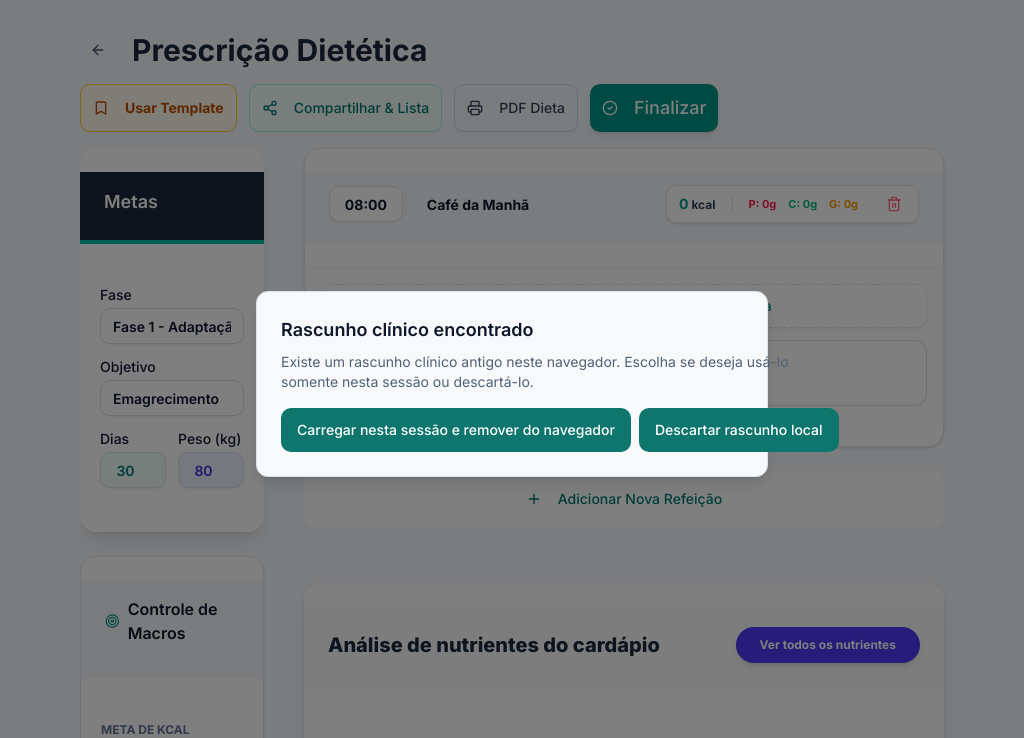
Test: diet page legacy draft recovery › waits for an explicit load choice, applies only in memory and removes the old key
The image size is (1024, 738).
Expected: the dialog "Rascunho clínico encontrado" is shown, [256,291,768,477]
Expected: the field showing "Plano legado desta sessão" is not shown
Step 1. Click the button "Carregar nesta sessão e remover do navegador" → point(456, 430), box [281,408,631,452]
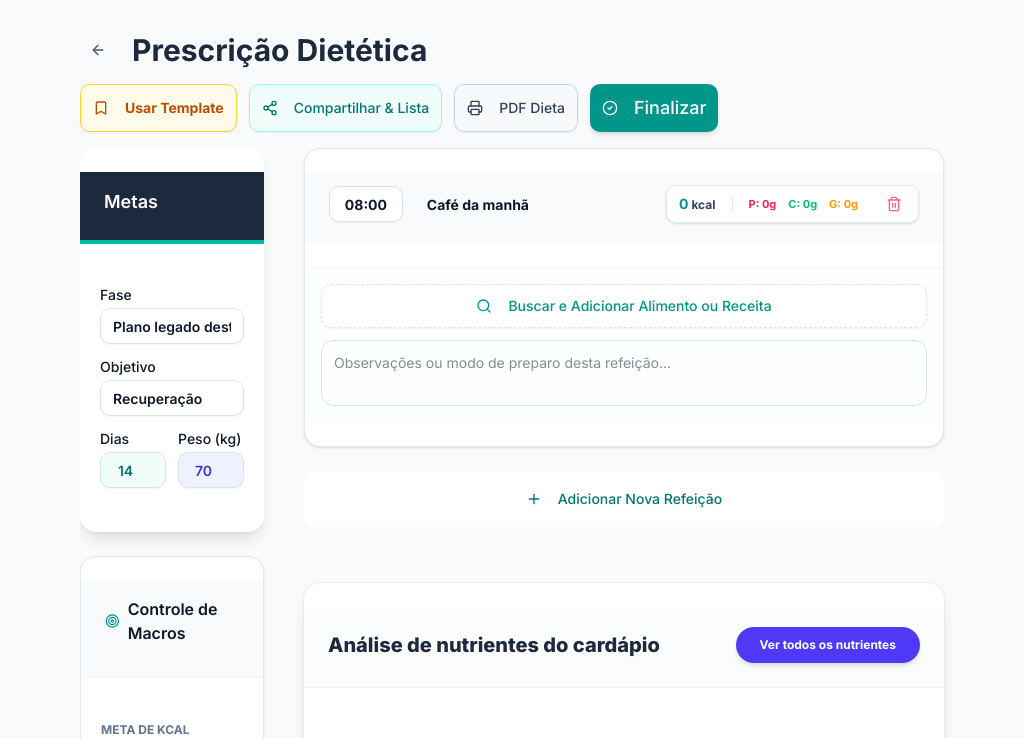
Expected: the field showing "Plano legado desta sessão" below "Fase" is shown, [100,308,244,344]
